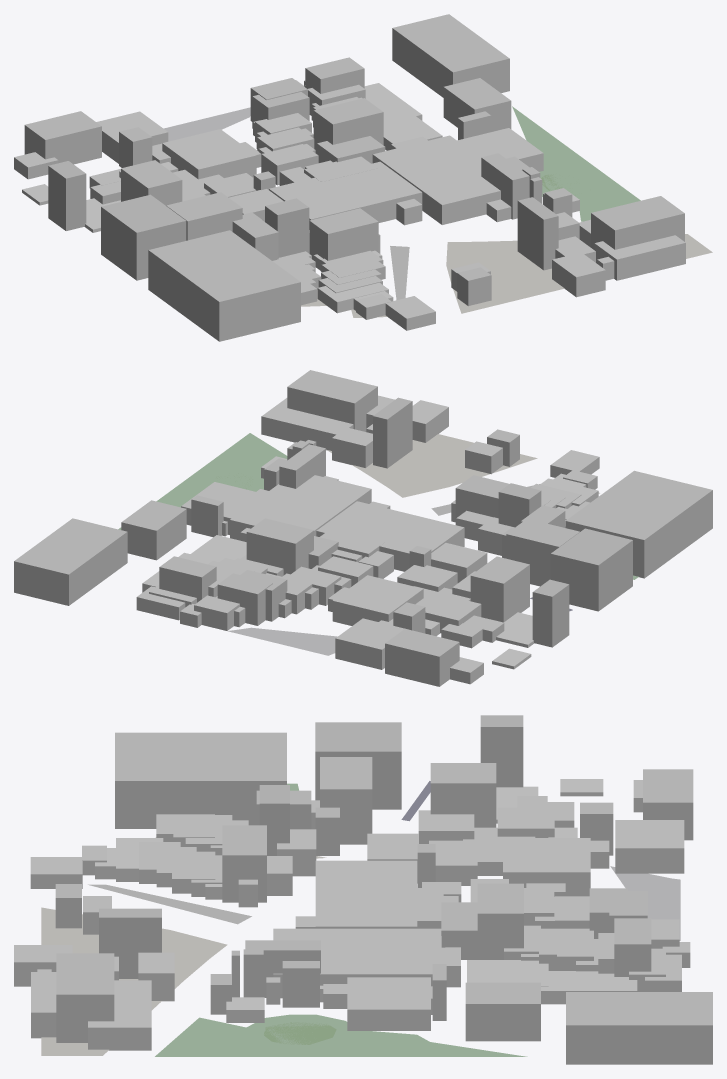
File: 130_100_mid.glb
3 renders of one model, top to bottom at view 1: azimuth 30°, elevation 25°; view 2: azimuth 150°, elevation 25°; view 3: azimuth 270°, elevation 25°, orthographic. The views are drawn at different scales.
Size of the model in its own units: 524 by 58.75 by 547.
